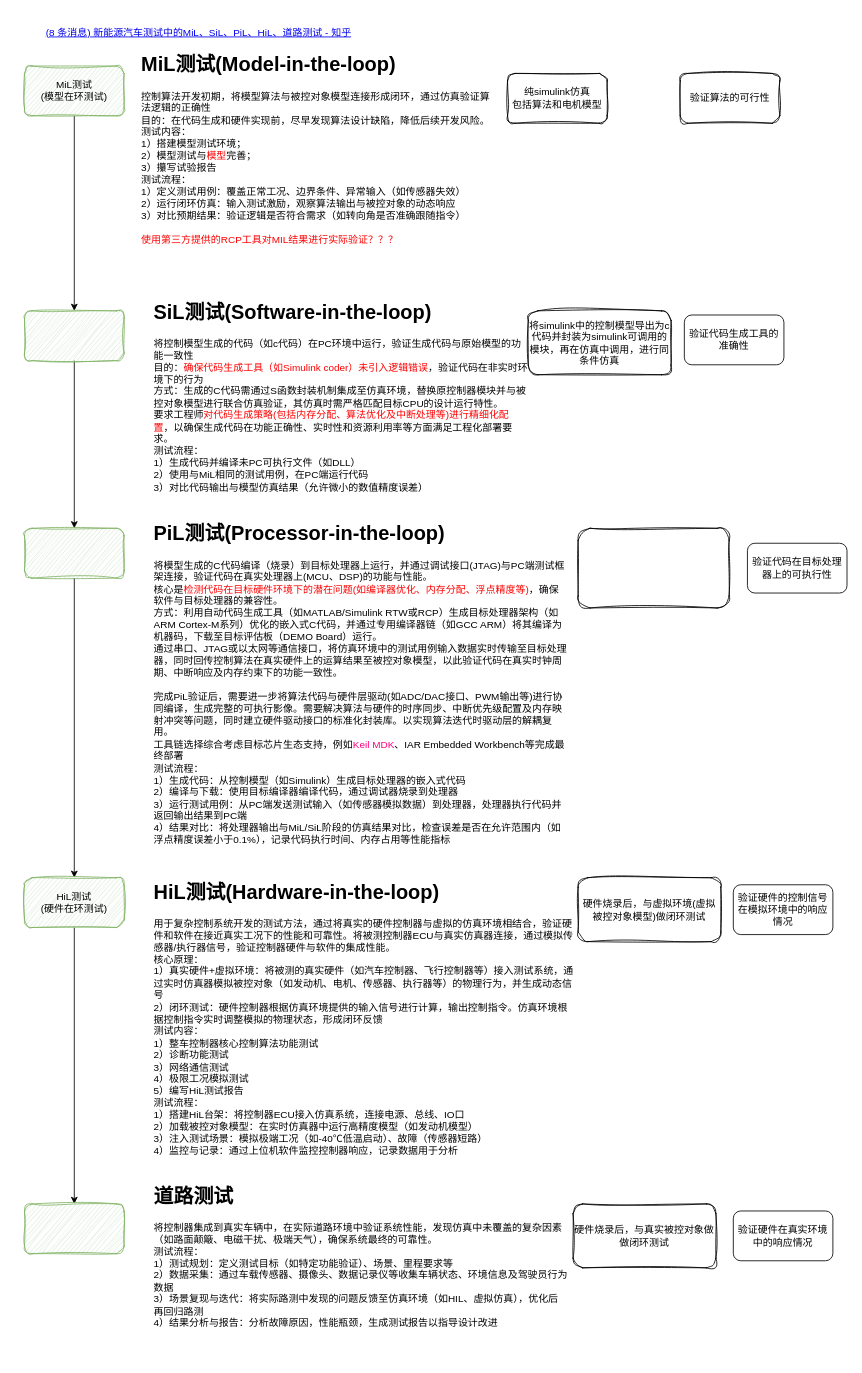
This 862x1373 diagram has some shape labels left out. The shapes that lost their labels are listed below. From the top down, each one's box as (x1, y1, x2, y2) in pixels, then its label:
(24, 310, 124, 361): SiL测试 (软件在环测试)
(24, 527, 124, 578): PiL测试 (处理器在环测试)
(577, 527, 729, 608): 烧录的程序中， 硬件驱动和算法部分解耦 (便于后续算法迭代) 算法模型烧录到目标处理器后，需要独立调用（输入为仿真时的模拟数据序列），验证与仿真结果的一致性
(24, 1203, 124, 1254): 道路测试 (道路测试)
